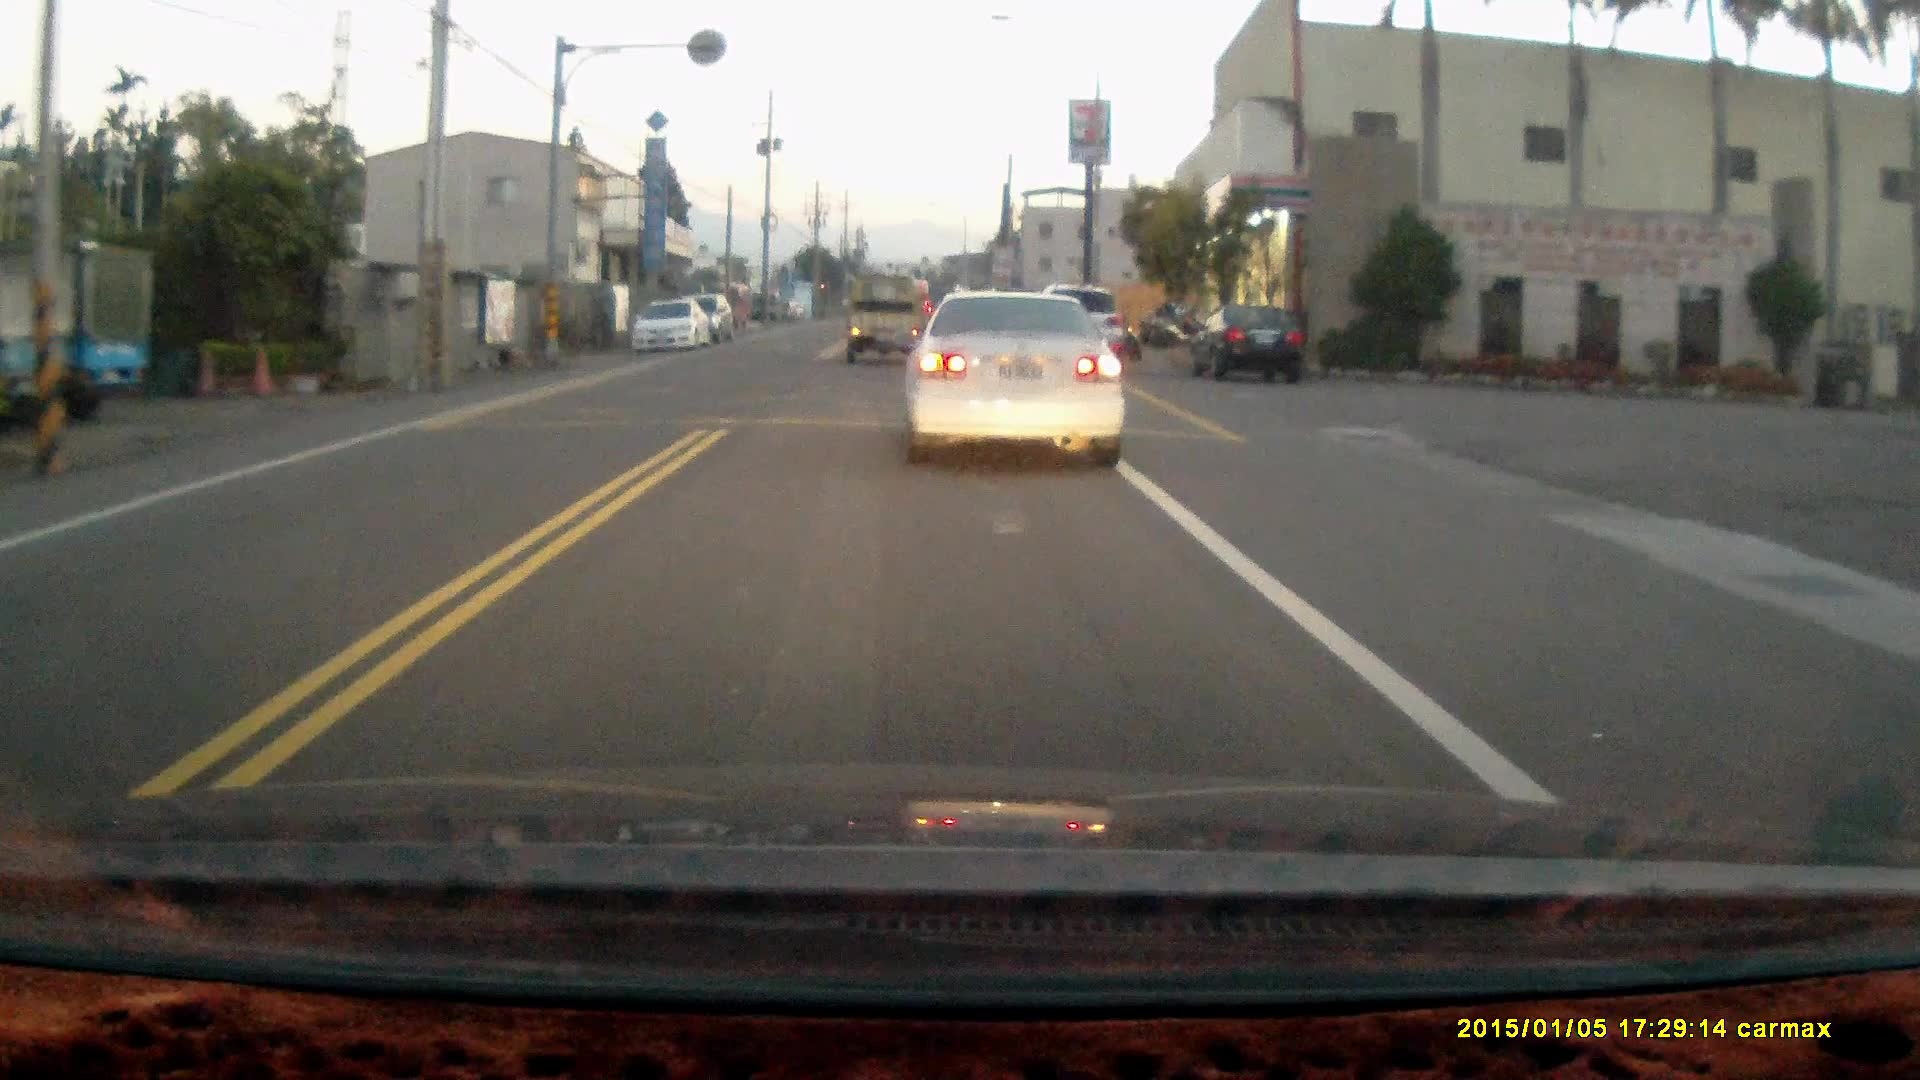vehicle: (913, 284, 1135, 469), (1185, 306, 1307, 386), (841, 270, 934, 361), (625, 294, 716, 355)
